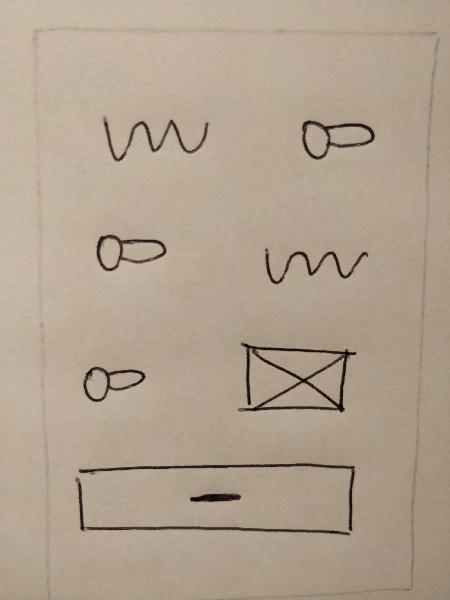button: (67, 451, 361, 545)
image: (227, 335, 362, 428)
switch: (294, 108, 383, 171), (87, 226, 176, 288), (76, 359, 151, 415)
text: (96, 106, 216, 172), (258, 235, 379, 300)
